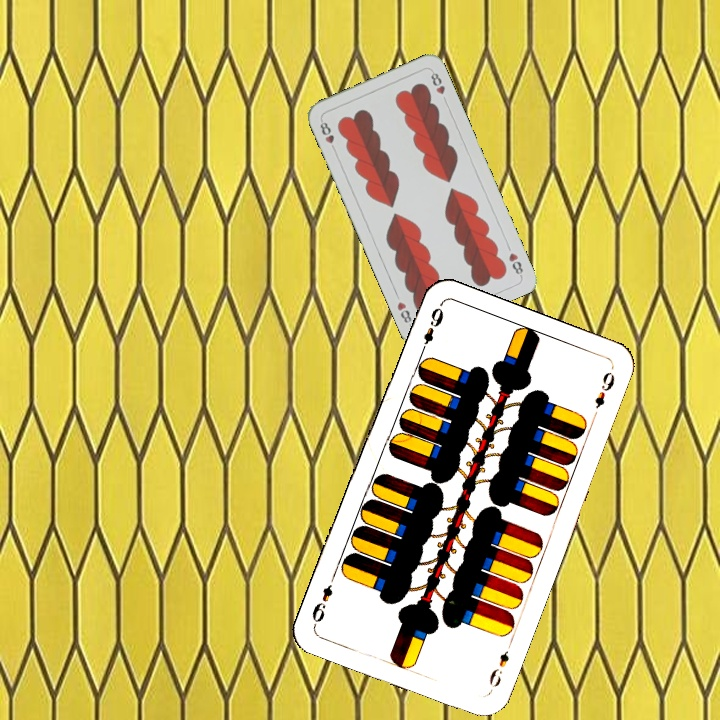E9: (416, 301, 446, 358), (484, 646, 512, 690)
H8: (316, 116, 339, 154), (505, 248, 526, 279)
